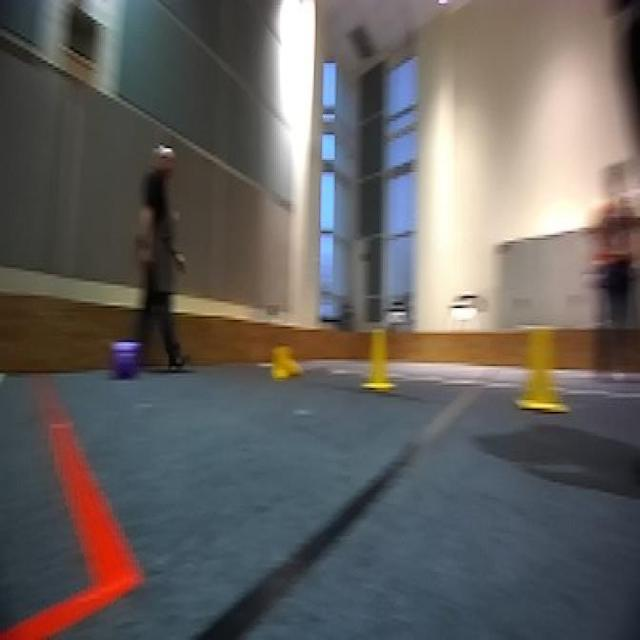frc_cone: (516, 322, 574, 420), (360, 327, 396, 391), (271, 346, 301, 381)
frc_cube: (113, 335, 141, 380)
